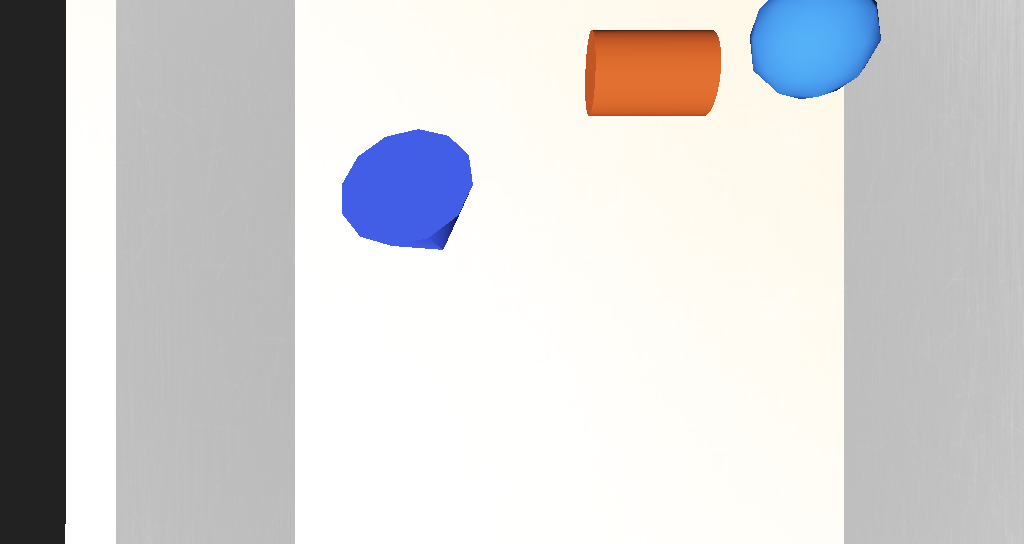cone: (512, 172, 579, 210)
cylinder: (381, 217, 468, 279)
sphere: (603, 160, 664, 203)
